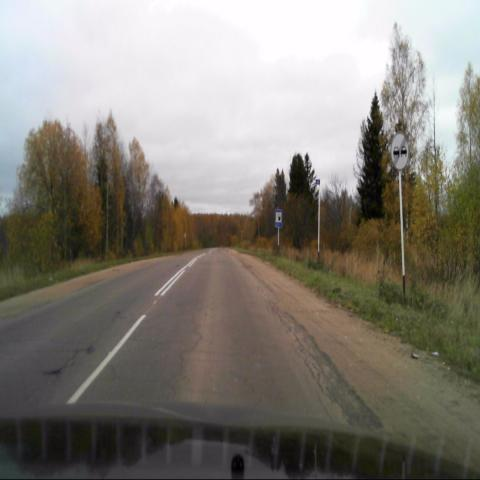3_21: (390, 132, 408, 172)
